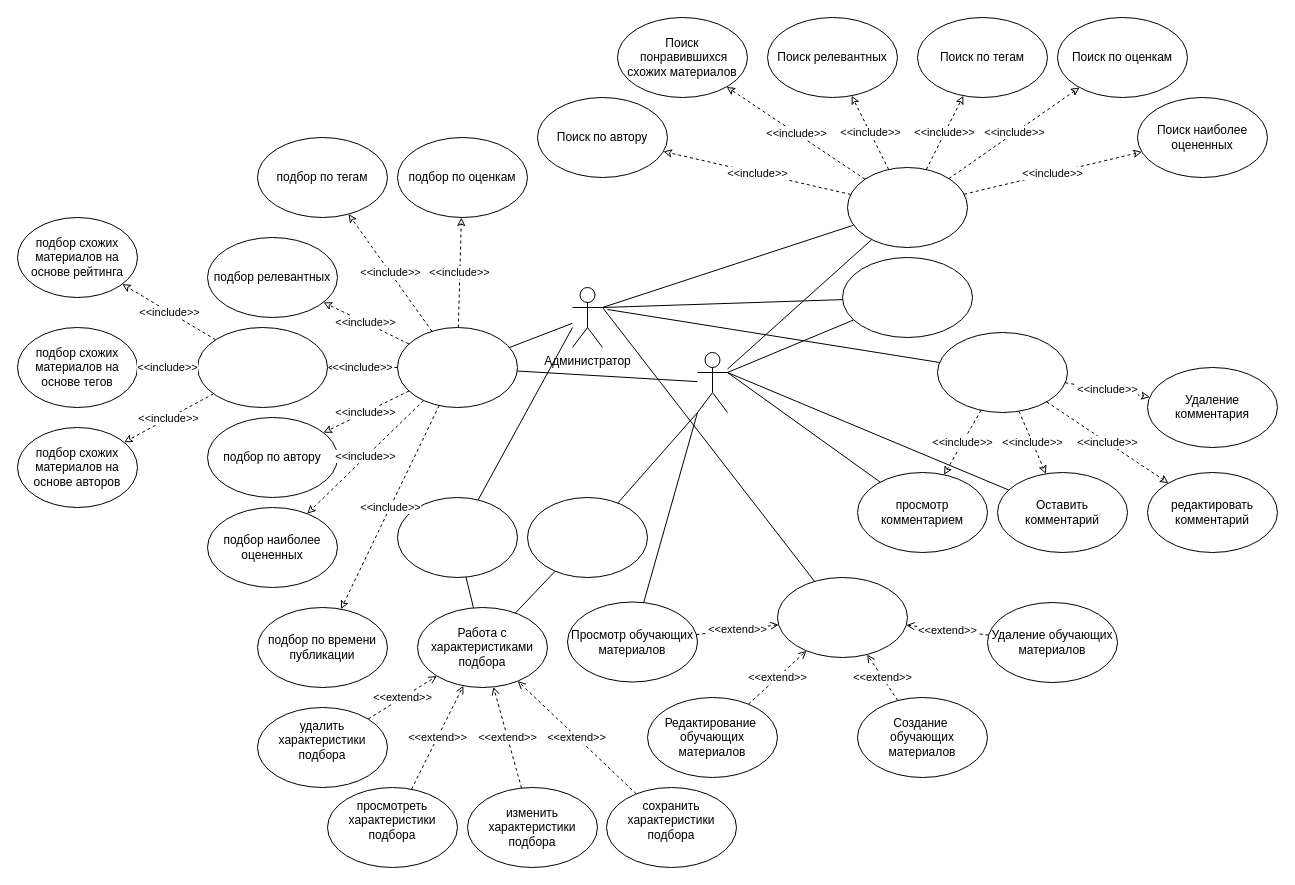
Image size: 1295x885. Some labels were removed from this diagram. Here are the shapes that lost their labels. From the top down, the centre of each, then its label:
the point at 907,207: Поиск обучающего контента
the point at 907,297: Авторизация
the point at 262,367: подбор понравившихся схожих материалов
the point at 457,367: Подбор обучающего контента
the point at 712,382: Пользователь
the point at 1002,372: работа с комментариями
the point at 457,537: Работа с характеристиками подбора для всех пользователей
the point at 587,537: Работа с характеристиками подбора для своего пользователя
the point at 842,617: Работа с обучающими материалами
